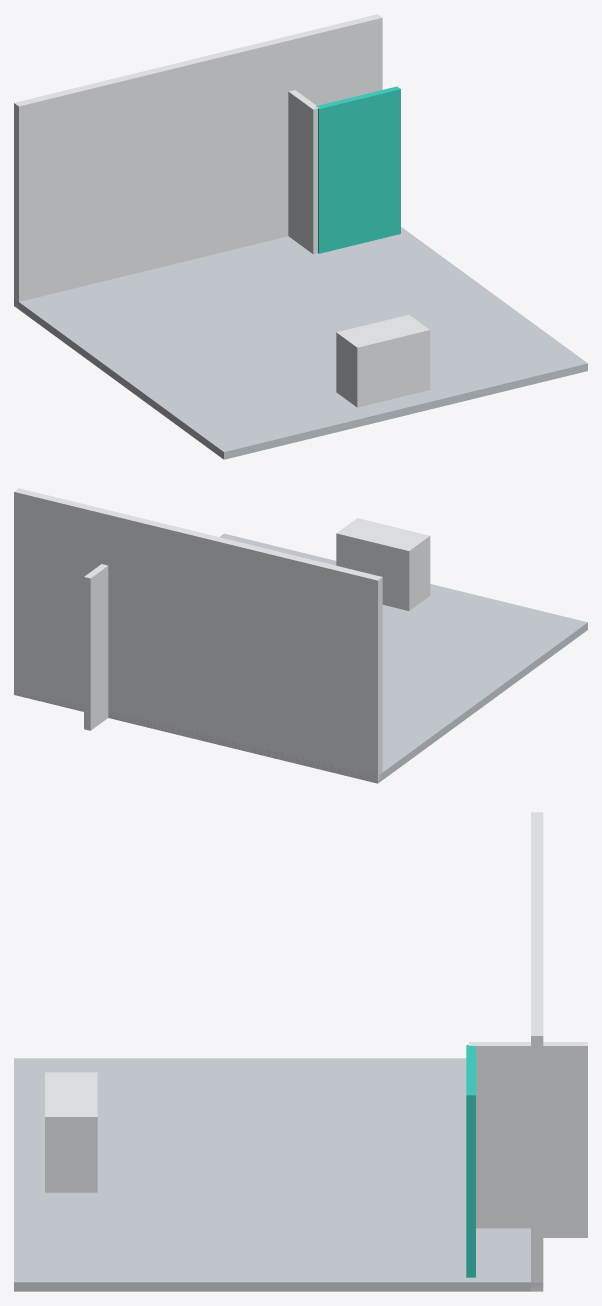
The picture shows the model from 3 angles, top to bottom: view 1: azimuth 30°, elevation 25°; view 2: azimuth 150°, elevation 25°; view 3: azimuth 270°, elevation 25°; orthographic projection. The views are drawn at different scales.
Parts seen in each view (by area): view 1: Exhibition Booth Concept; view 2: Exhibition Booth Concept; view 3: Exhibition Booth Concept.
Boxes of the visible parts, x1=… form: Exhibition Booth Concept: x1=14, y1=14, x2=587, y2=459; Exhibition Booth Concept: x1=14, y1=488, x2=587, y2=783; Exhibition Booth Concept: x1=14, y1=812, x2=587, y2=1291.
Bounding box in the file's own units: 6 × 3.2 × 6.51.
